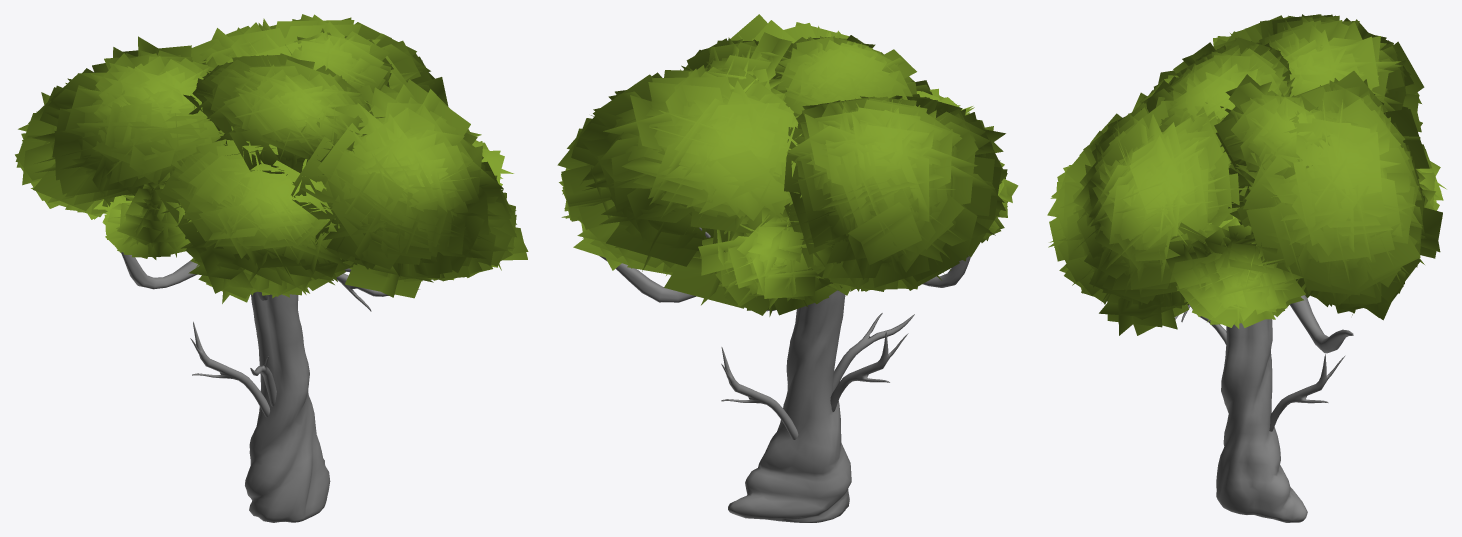
Rendered from SM_tree_great_01.fbx.
The picture shows the model from 3 angles, left to right: view 1: azimuth 30°, elevation 25°; view 2: azimuth 150°, elevation 25°; view 3: azimuth 270°, elevation 25°; orthographic projection. The views are drawn at different scales.
Parts seen in each view (by area): view 1: Group63268; view 2: Group63268; view 3: Group63268.
Part boxes in pixels (bbox=[...]): Group63268: bbox=[15, 14, 528, 522]; Group63268: bbox=[557, 14, 1018, 522]; Group63268: bbox=[1047, 14, 1446, 522].
Bounding box in the file's own units: 320 × 335 × 276.
